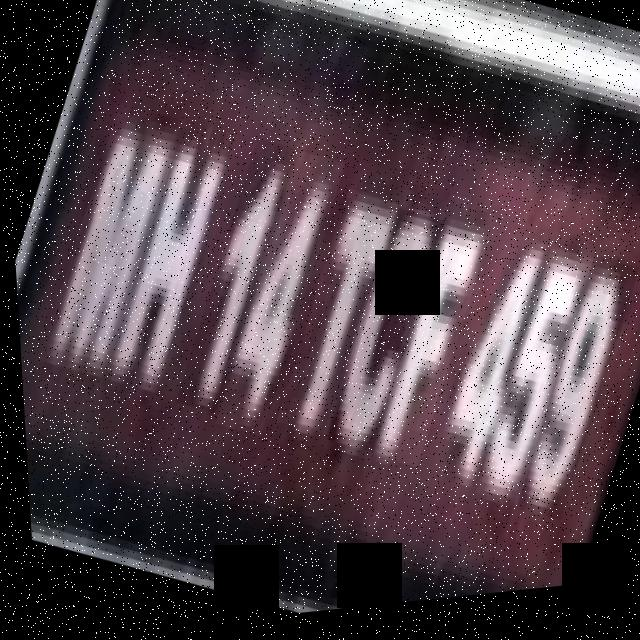1: (158, 141, 308, 421)
4: (197, 154, 355, 445), (413, 237, 559, 497)
5: (457, 257, 600, 519)
9: (498, 265, 640, 536)
C: (311, 213, 452, 463)
F: (357, 230, 496, 479)
H: (86, 131, 246, 406)
M: (24, 110, 189, 384)
T: (260, 192, 407, 446)
